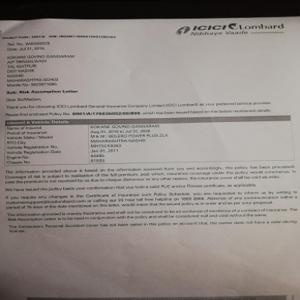image: (173, 21, 287, 37)
table: (1, 115, 293, 162)
text: (1, 34, 274, 114), (5, 164, 299, 234)
